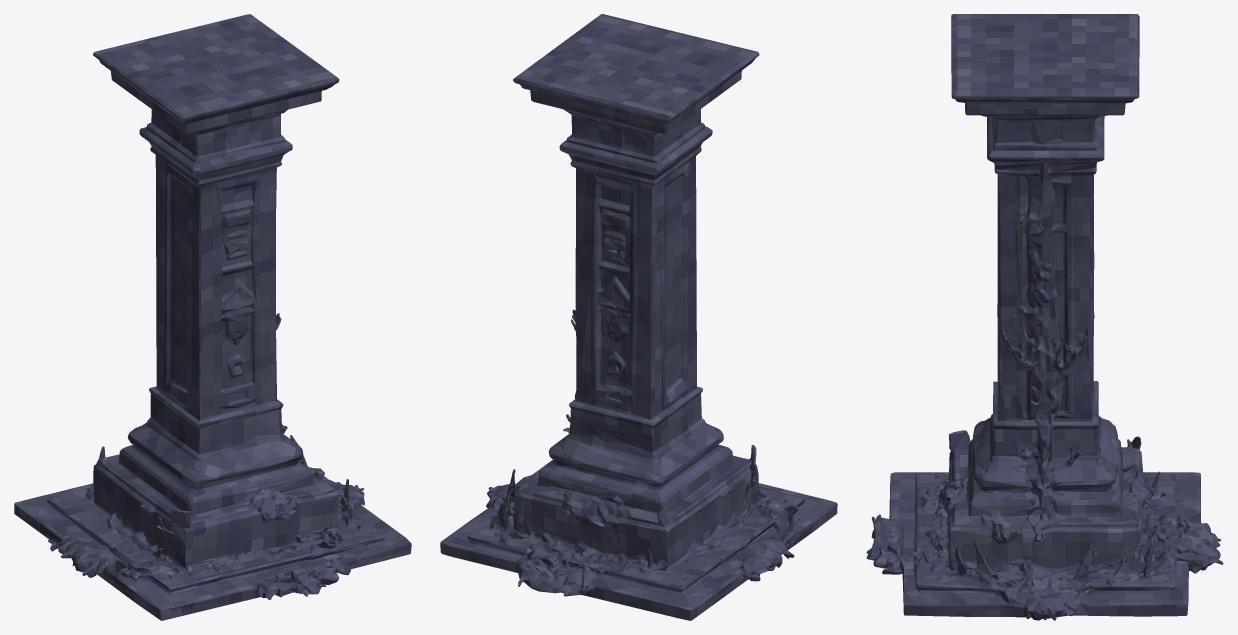
The model's file is weathered-monolith-pillar-generated-2026-04-19T23-42-40-008Z.low.glb.
3 renders of one model, left to right at view 1: azimuth 30°, elevation 25°; view 2: azimuth 150°, elevation 25°; view 3: azimuth 270°, elevation 25°, orthographic. The views are drawn at different scales.
Parts seen in each view (by area): view 1: temp_mesh.ply; view 2: temp_mesh.ply; view 3: temp_mesh.ply.
Part boxes in pixels (left/top/right/bottom): temp_mesh.ply: left=14, top=14, right=411, bottom=620; temp_mesh.ply: left=440, top=14, right=837, bottom=620; temp_mesh.ply: left=866, top=14, right=1223, bottom=620.
Bounding box in the file's own units: 1.28 × 1.97 × 1.28.
1 material, 1 textured.
